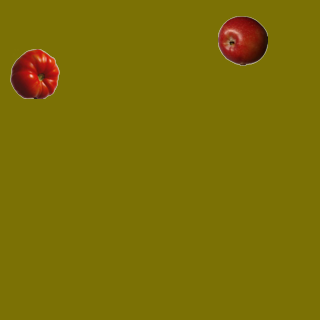Apple Braeburn: (217, 15, 267, 65)
Tomato 3: (9, 48, 59, 98)
